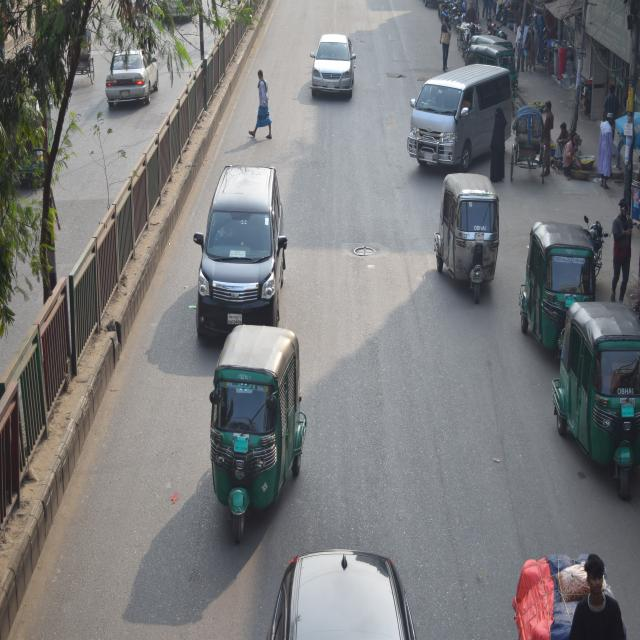car: (259, 538, 428, 640), (309, 26, 359, 119), (104, 42, 166, 115)
microbus: (191, 159, 286, 340), (406, 55, 514, 176)
motorbike: (585, 205, 612, 272), (443, 0, 474, 26)
